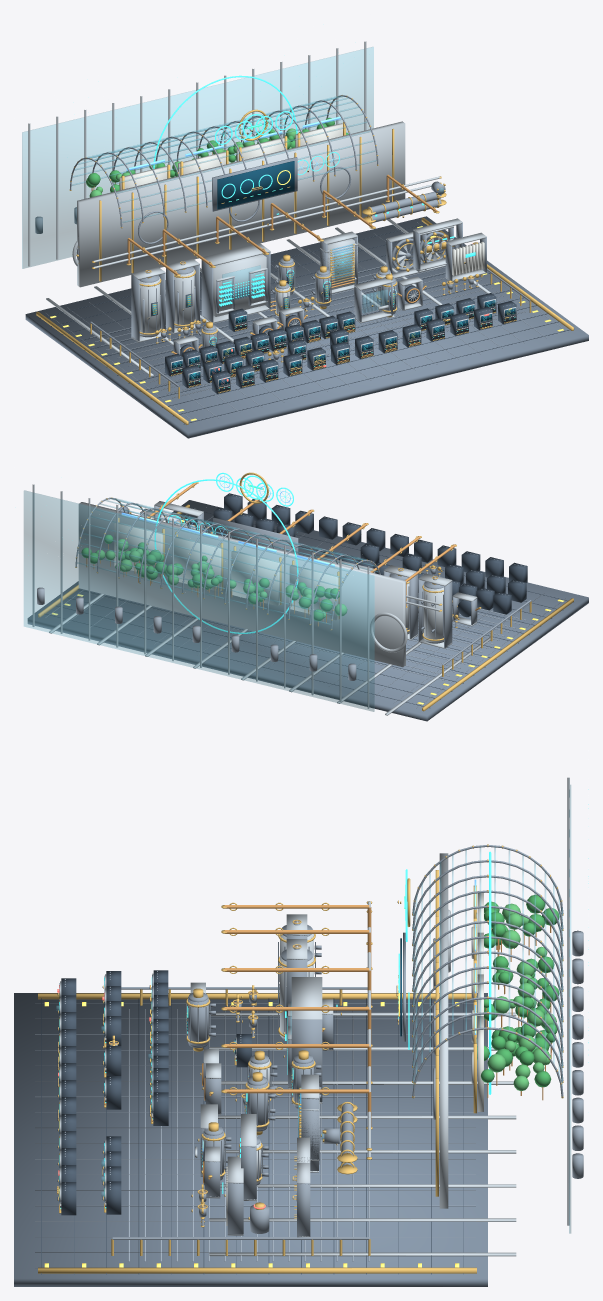
The model's file is Level88_Complete_ArtKit_Showcase.glb.
3 renders of one model, top to bottom at view 1: azimuth 30°, elevation 25°; view 2: azimuth 150°, elevation 25°; view 3: azimuth 270°, elevation 25°, orthographic. The views are drawn at different scales.
Parts seen in each view (by area): view 1: L87_HabitatAtmosphereQualific_Part_0000, L87_PanoramicOrbitalGardenVie_Part_0000, L87_PressurizedHabitatService_Part_0000, L87_PanoramicOrbitalGardenVie_Part_0001, L87_LifeSupportEquipmentServi_Part_0001, L87_HabitatAtmosphereQualific_Part_0002, L87_O2WaterElectrolysisChambe_Part_0001, L87_HabitatEnvironmentalSCADA_Part_0001, L87_PressurizedHabitatService_Part_0001, L87_ProcessGasOverheadPipeNet_Part_0003, L87_ProcessGasOverheadPipeNet_Part_0000, L87_HabitatAtmosphereQualific_Part_0006 (+19 smaller); view 2: L87_PanoramicOrbitalGardenVie_Part_0000, L87_HabitatAtmosphereQualific_Part_0000, L87_PressurizedHabitatService_Part_0000, L87_PanoramicOrbitalGardenVie_Part_0001, L87_HabitatAtmosphereQualific_Part_0006, L87_HabitatAtmosphereQualific_Part_0002, L87_Research_Part_0000, L87_LifeSupportEquipmentServi_Part_0001, L87_PanoramicOrbitalGardenVie_Part_0002, L87_DualAdsorberTowerA_Part_0000, L87_Garden_Part_0000, L87_HabitatRingGlassBioDome_Part_0030 (+36 smaller); view 3: L87_HabitatAtmosphereQualific_Part_0000, L87_HabitatAtmosphereQualific_Part_0006, L87_HabitatAtmosphereQualific_Part_0001, L87_LifeSupportEquipmentServi_Part_0001, L87_HabitatAtmosphereQualific_Part_0003, L87_ProcessGasOverheadPipeNet_Part_0000, L87_PressurizedHabitatService_Part_0000, L87_HabitatAtmosphereQualific_Part_0002, L87_PanoramicOrbitalGardenVie_Part_0002, L87_HabitatRingGlassBioDome_Part_0030, L87_HabitatRingGlassBioDome_Part_0033, L87_HabitatRingGlassBioDome_Part_0032 (+27 smaller).
Part boxes in pixels (x1,y1,x2,y2): L87_HabitatAtmosphereQualific_Part_0000: [25, 216, 588, 438]; L87_PanoramicOrbitalGardenVie_Part_0000: [22, 47, 373, 268]; L87_PressurizedHabitatService_Part_0000: [77, 121, 405, 287]; L87_PanoramicOrbitalGardenVie_Part_0001: [28, 41, 366, 266]; L87_LifeSupportEquipmentServi_Part_0001: [89, 237, 530, 398]; L87_HabitatAtmosphereQualific_Part_0002: [39, 224, 570, 424]; L87_O2WaterElectrolysisChambe_Part_0001: [202, 243, 270, 323]; L87_HabitatEnvironmentalSCADA_Part_0001: [217, 161, 294, 209]; L87_PressurizedHabitatService_Part_0001: [99, 129, 394, 281]; L87_ProcessGasOverheadPipeNet_Part_0003: [94, 176, 440, 268]; L87_ProcessGasOverheadPipeNet_Part_0000: [127, 174, 437, 274]; L87_HabitatAtmosphereQualific_Part_0006: [46, 219, 490, 375]; L87_PanoramicOrbitalGardenVie_Part_0000: [24, 490, 374, 711]; L87_HabitatAtmosphereQualific_Part_0000: [27, 500, 588, 721]; L87_PressurizedHabitatService_Part_0000: [78, 502, 405, 667]; L87_PanoramicOrbitalGardenVie_Part_0001: [32, 484, 369, 708]; L87_HabitatAtmosphereQualific_Part_0006: [49, 594, 490, 715]; L87_HabitatAtmosphereQualific_Part_0002: [45, 512, 573, 707]; L87_Research_Part_0000: [231, 551, 279, 605]; L87_LifeSupportEquipmentServi_Part_0001: [91, 515, 531, 680]; L87_PanoramicOrbitalGardenVie_Part_0002: [37, 587, 356, 680]; L87_DualAdsorberTowerA_Part_0000: [418, 573, 452, 648]; L87_Garden_Part_0000: [174, 537, 221, 591]; L87_HabitatRingGlassBioDome_Part_0030: [95, 539, 347, 617]; L87_HabitatAtmosphereQualific_Part_0000: [14, 993, 487, 1286]; L87_HabitatAtmosphereQualific_Part_0006: [209, 1012, 516, 1256]; L87_HabitatAtmosphereQualific_Part_0001: [35, 1003, 475, 1268]; L87_LifeSupportEquipmentServi_Part_0001: [112, 987, 369, 1261]; L87_HabitatAtmosphereQualific_Part_0003: [38, 993, 476, 1273]; L87_ProcessGasOverheadPipeNet_Part_0000: [224, 905, 371, 1127]; L87_PressurizedHabitatService_Part_0000: [439, 853, 448, 1208]; L87_HabitatAtmosphereQualific_Part_0002: [41, 998, 463, 1274]; L87_PanoramicOrbitalGardenVie_Part_0002: [572, 930, 583, 1178]; L87_HabitatRingGlassBioDome_Part_0030: [487, 903, 556, 1091]; L87_HabitatRingGlassBioDome_Part_0033: [477, 894, 554, 1087]; L87_HabitatRingGlassBioDome_Part_0032: [484, 901, 559, 1059].
Size of the model in its own units: 30.8 by 14.38 by 26.21.
